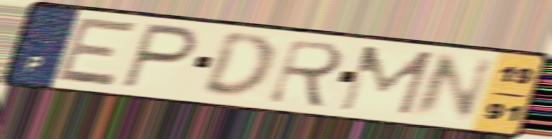D: (197, 32, 277, 102)
E: (51, 15, 142, 89)
M: (334, 43, 438, 118)
N: (405, 52, 500, 121)
P: (117, 20, 202, 93)
R: (263, 36, 349, 111)
